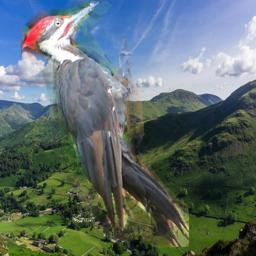Woodpecker: (21, 1, 189, 247)
